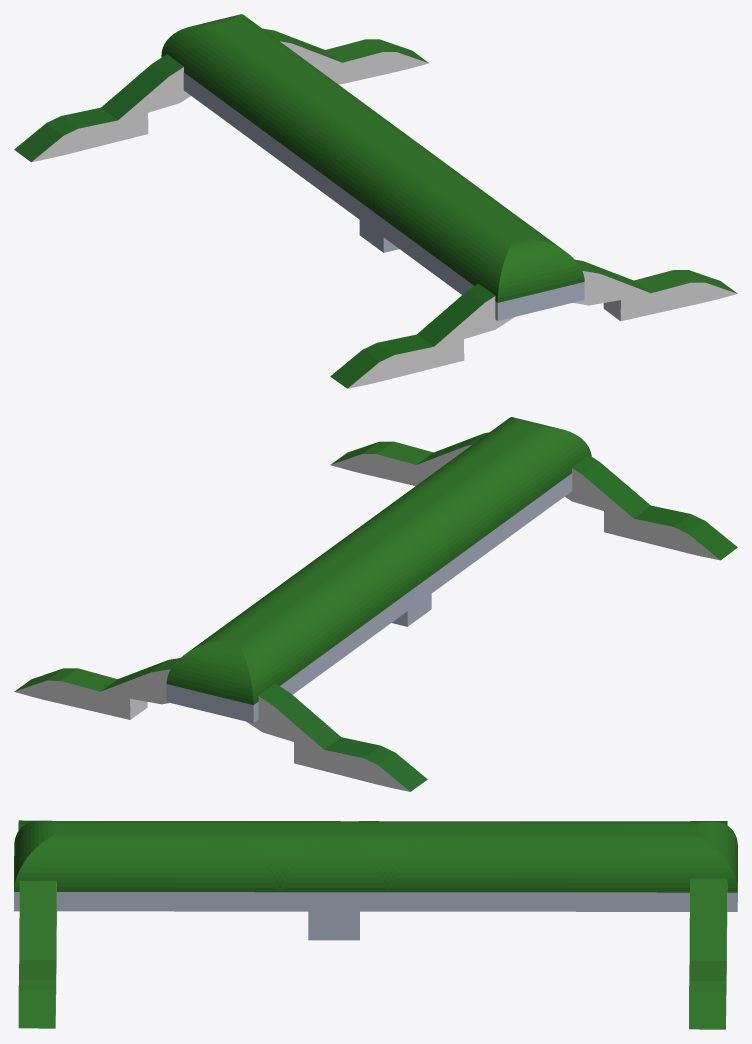
The model's file is skywalk2.fbx.
3 views of the same model, one above another, from view 1: azimuth 30°, elevation 25°; view 2: azimuth 150°, elevation 25°; view 3: azimuth 270°, elevation 25° (orthographic). The views are drawn at different scales.
Parts seen in each view (by area): view 1: Skywalk; view 2: Skywalk; view 3: Skywalk.
Boxes of the visible parts, <box> form: Skywalk: <box>14,14,737,388</box>; Skywalk: <box>14,417,737,791</box>; Skywalk: <box>14,820,737,1029</box>.
Bounding box in the file's own units: 331 × 74.17 × 486.
